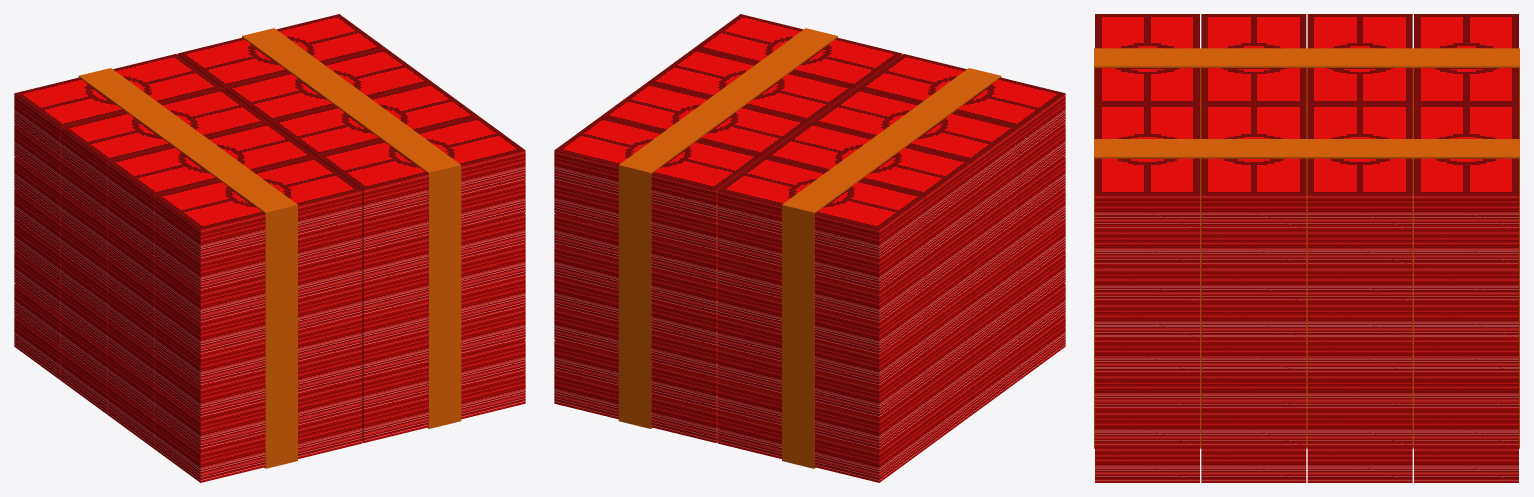
Rendered from LargeMoneyStack.fbx.
3 renders of one model, left to right at view 1: azimuth 30°, elevation 25°; view 2: azimuth 150°, elevation 25°; view 3: azimuth 270°, elevation 25°, orthographic. The views are drawn at different scales.
Visible parts, largest first — view 1: LargeStack; view 2: LargeStack; view 3: LargeStack.
Boxes of the visible parts, box(x1,y1,x2,y2) form: LargeStack: box(14, 14, 525, 482); LargeStack: box(554, 14, 1065, 482); LargeStack: box(1094, 14, 1519, 482).
Bounding box in the file's own units: 79.15 × 59.62 × 78.91.
2 materials, 1 textured.
